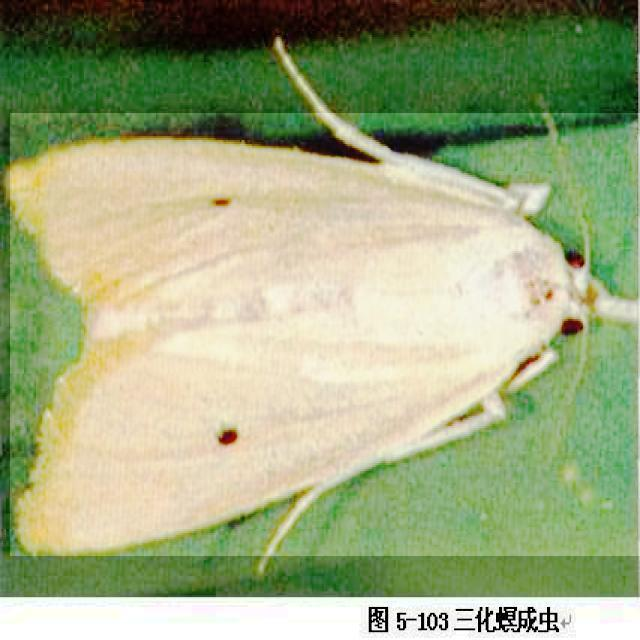stem-borer: (10, 113, 640, 556)
